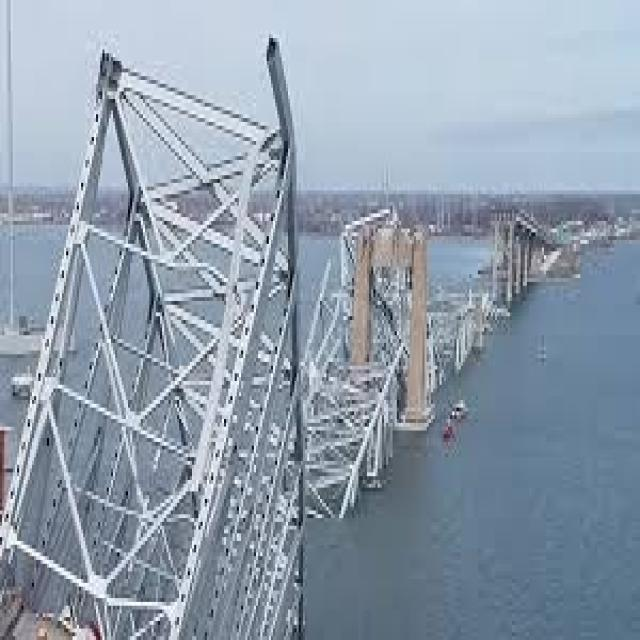bridge collapse: (74, 4, 580, 631)
